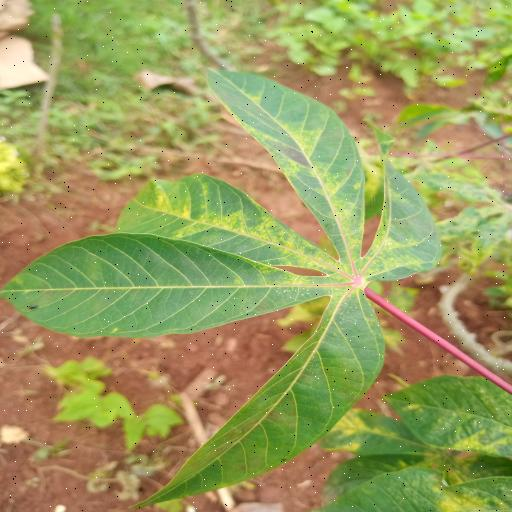Cassava_Mosaic: (4, 68, 444, 499)
